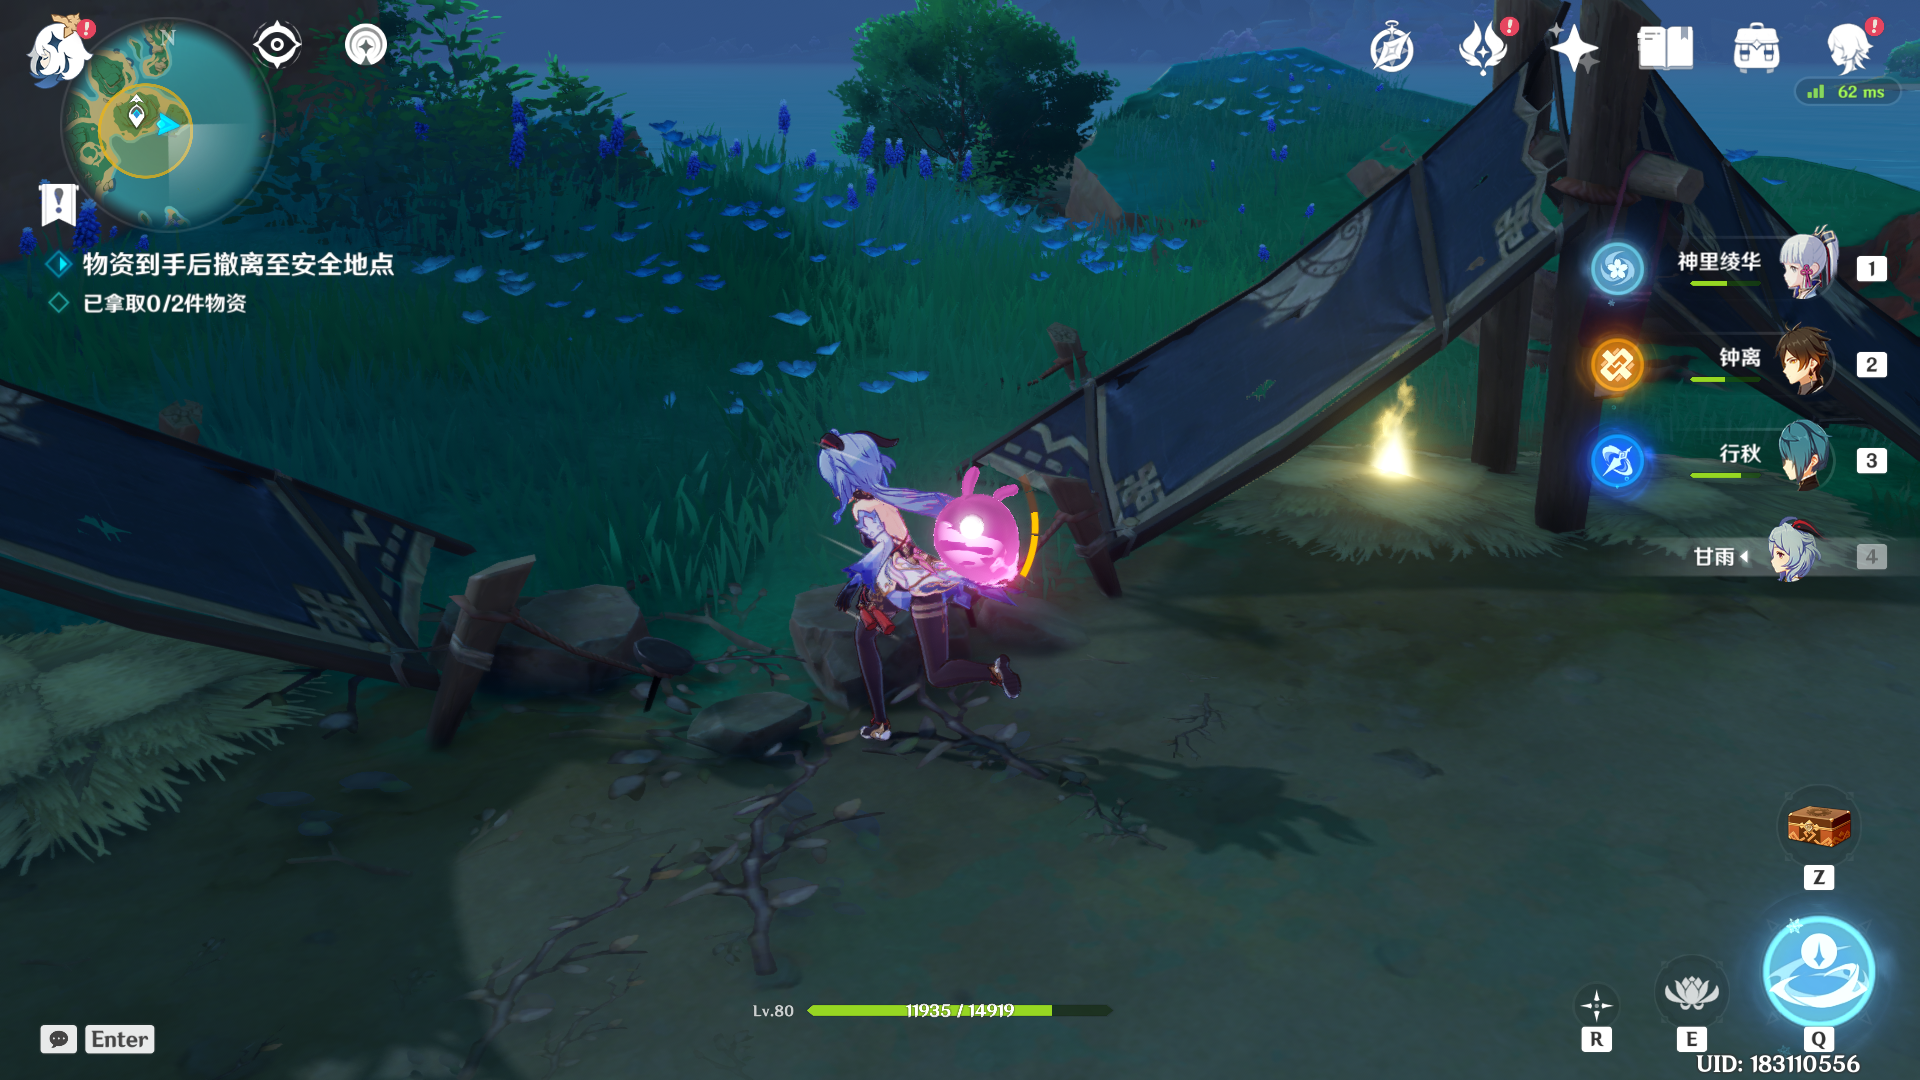character: (736, 344, 1069, 785)
